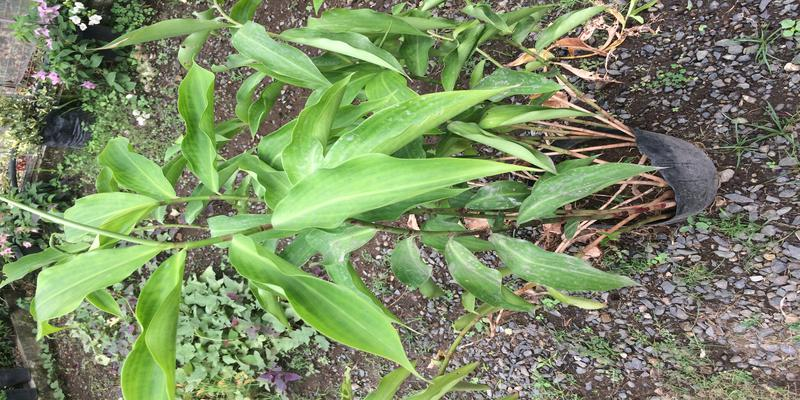Insulin: (98, 31, 606, 309)
